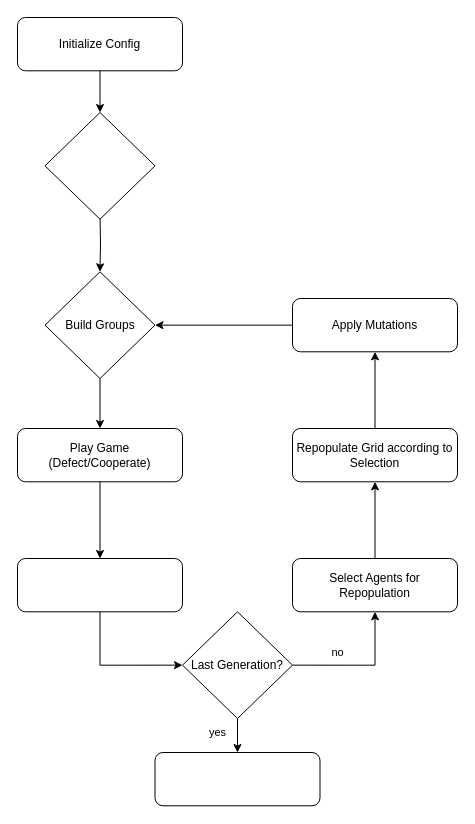
Some shapes in this 475 by 824 pixel diagram are drawn without their labels. The centre of each missing label's shape, as x and y in pixels:
Calculate Payoff: point (99, 585)
Finish Game and Save Results: point (237, 779)
Populate Grid Randomly: point (99, 165)
